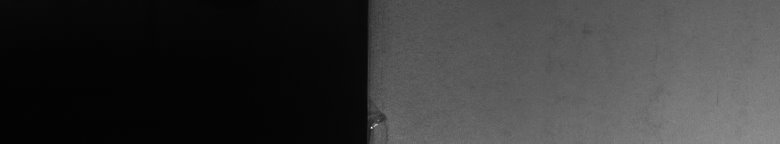hb: (376, 101, 395, 136)
